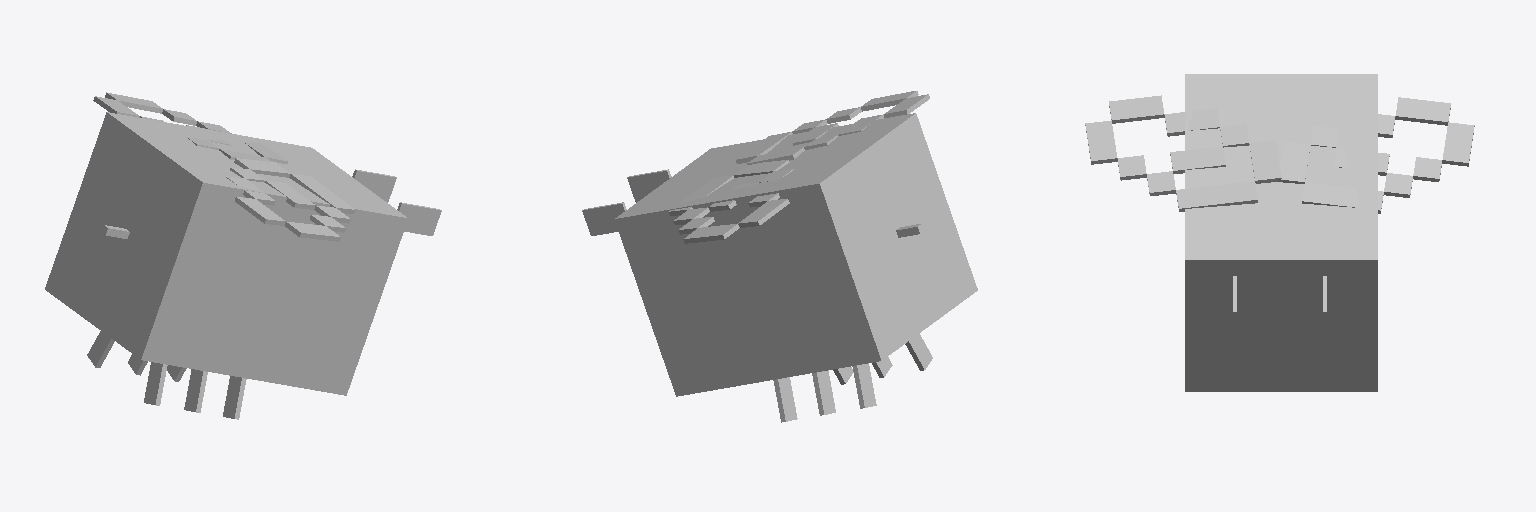
The model's file is Bee_ (221).obj.
The picture shows the model from 3 angles: view 1: azimuth 30°, elevation 25°; view 2: azimuth 150°, elevation 25°; view 3: azimuth 270°, elevation 25°; orthographic projection.
Parts seen in each view (by area): view 1: b_Bee_MAT_0, l_Bee_MAT_0, r_Bee_MAT_0; view 2: b_Bee_MAT_0, r_Bee_MAT_0, l_Bee_MAT_0; view 3: b_Bee_MAT_0, l_Bee_MAT_0, r_Bee_MAT_0.
Boxes of the visible parts, x1,y1,x2,y2 form: b_Bee_MAT_0: [45, 112, 441, 419]; l_Bee_MAT_0: [226, 158, 355, 241]; r_Bee_MAT_0: [93, 92, 287, 163]; b_Bee_MAT_0: [582, 113, 977, 422]; r_Bee_MAT_0: [669, 160, 793, 243]; l_Bee_MAT_0: [736, 91, 929, 164]; b_Bee_MAT_0: [1185, 74, 1377, 391]; l_Bee_MAT_0: [1085, 95, 1281, 211]; r_Bee_MAT_0: [1278, 97, 1474, 213].
Size of the model in its own units: 0.3054 by 0.2385 by 0.3168.